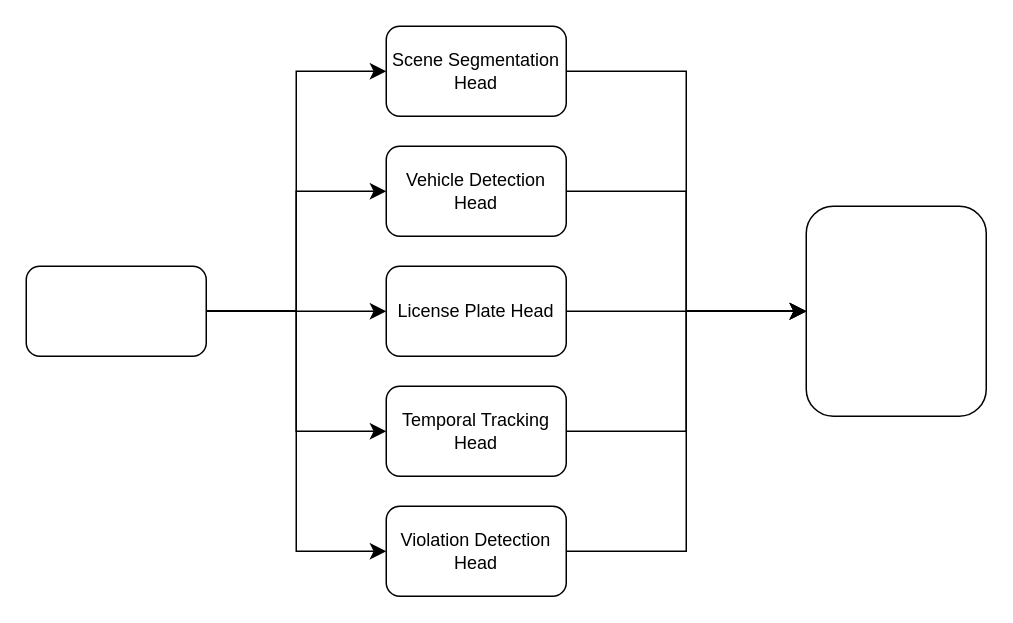
This 1013x623 diagram has some shape labels left out. The shapes that lost their labels are listed below. From the top down, each one's centre as x and y in pixels, then its label:
the point at 115,310: Input Video (640, 640, 3, 5)
the point at 895,310: Unified Output - Vehicle Info - License Plate - Location - Violation
